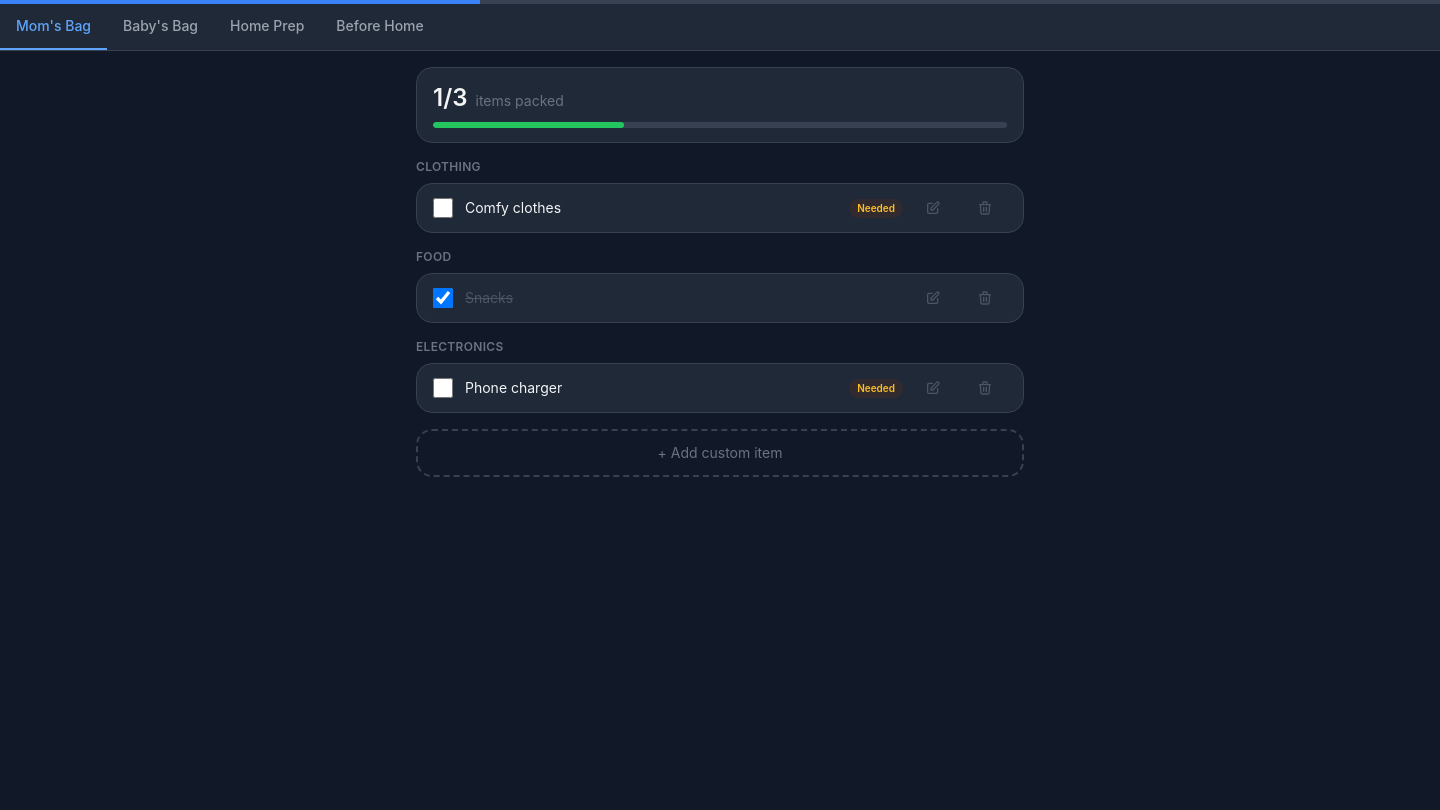
it: ChecklistPage › clearing the label shows an inline error and does not save
Check: the text "Comfy clothes" is shown, box [465,199,561,216]
Click the button named "Edit Comfy clothes" at (933,208), box [911,186,955,230]
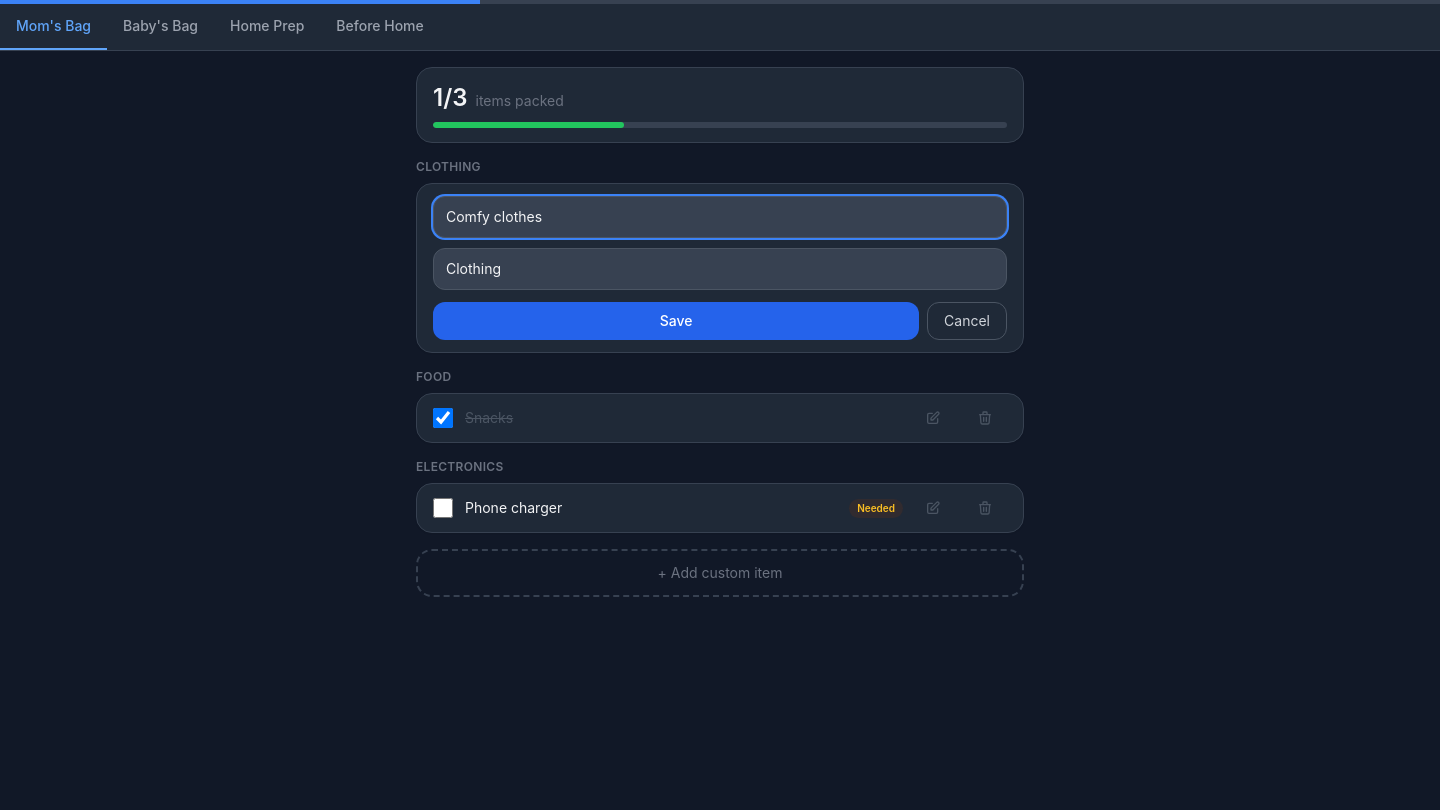
Clear the 1st field with placeholder "Item name" at (720,217), box [433,196,1007,238]
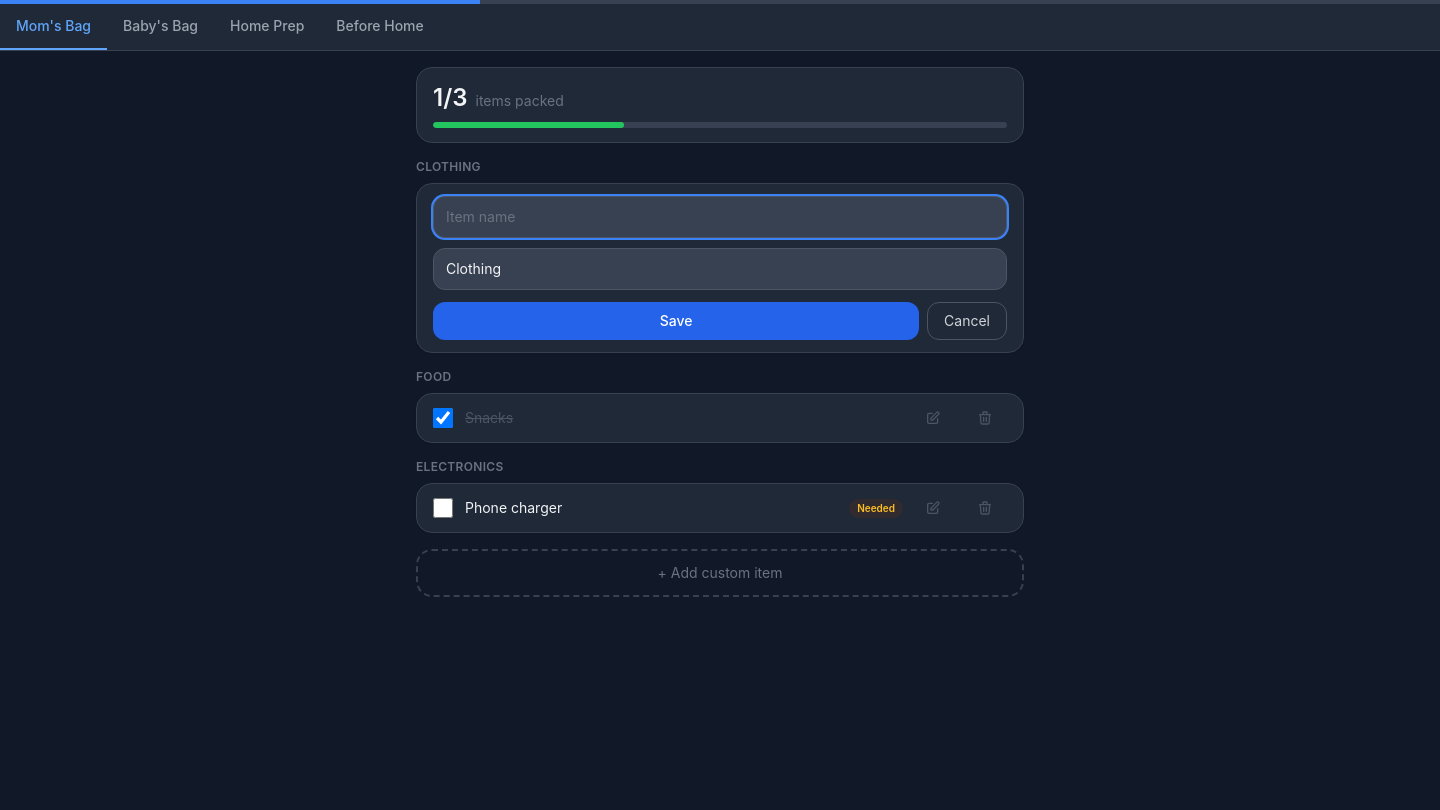
Click the button "Save" at (676,321), box [433,302,919,340]
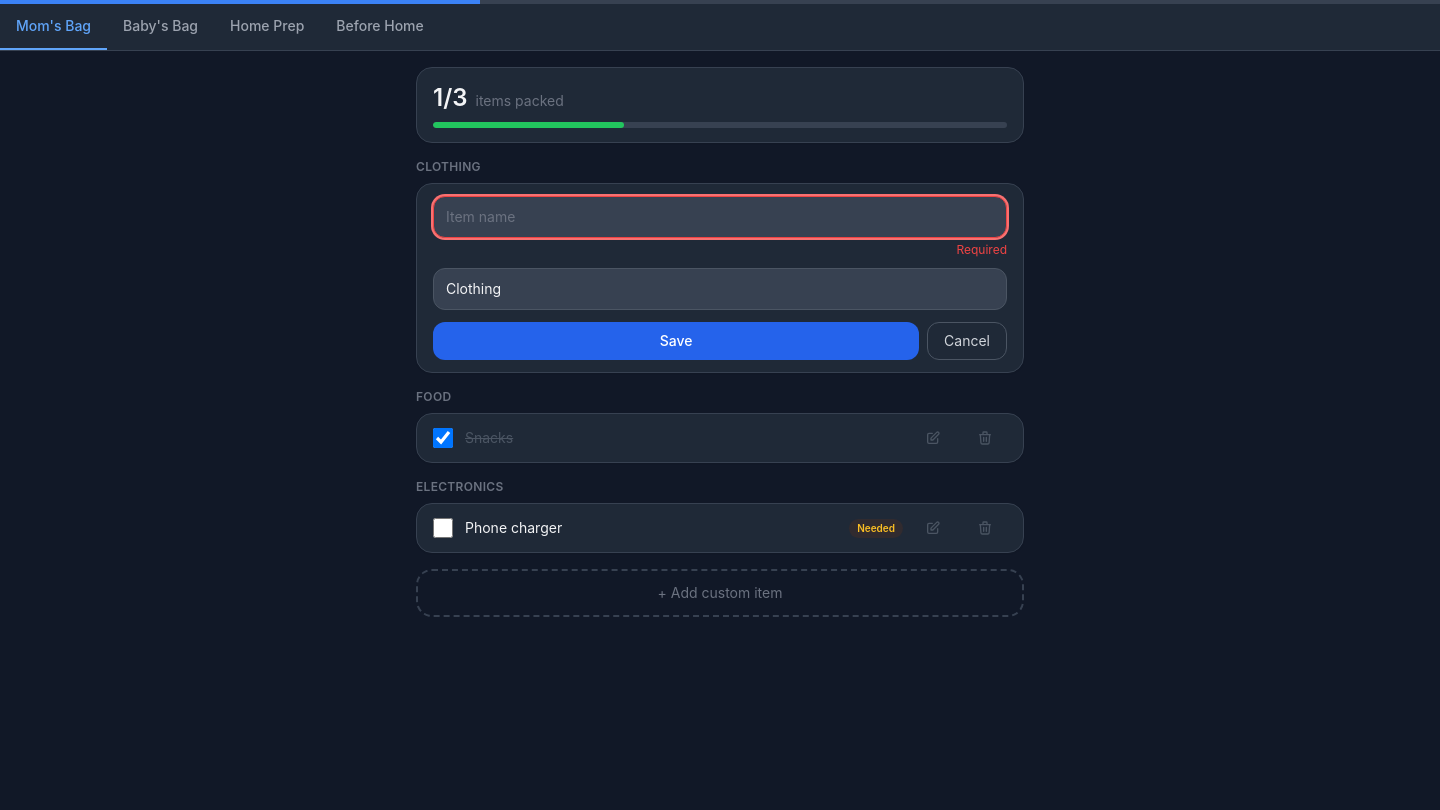
Check: the text "Required" is shown, box [956,242,1007,257]
